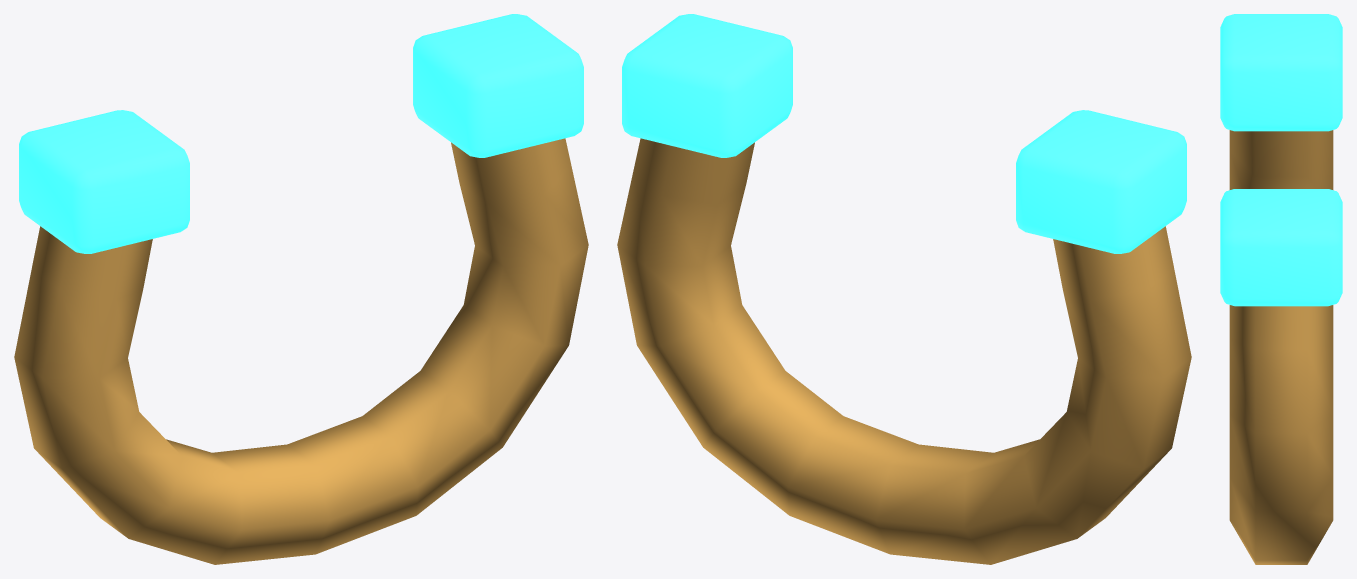
Rendered from loot-3-refined-v15.fbx.
3 renders of one model, left to right at view 1: azimuth 30°, elevation 25°; view 2: azimuth 150°, elevation 25°; view 3: azimuth 270°, elevation 25°, orthographic. The views are drawn at different scales.
Parts seen in each view (by area): view 1: MagnetArc, MagnetTip, MagnetTip.001; view 2: MagnetArc, MagnetTip, MagnetTip.001; view 3: MagnetArc, MagnetTip, MagnetTip.001.
Boxes of the visible parts, x1=… form: MagnetArc: x1=14, y1=138, x2=588, y2=564; MagnetTip: x1=19, y1=110, x2=189, y2=253; MagnetTip.001: x1=413, y1=14, x2=583, y2=157; MagnetArc: x1=617, y1=138, x2=1191, y2=564; MagnetTip: x1=1016, y1=110, x2=1186, y2=253; MagnetTip.001: x1=622, y1=14, x2=792, y2=157; MagnetArc: x1=1229, y1=130, x2=1333, y2=564; MagnetTip: x1=1220, y1=14, x2=1342, y2=131; MagnetTip.001: x1=1220, y1=189, x2=1342, y2=306.
Size of the model in its own units: 60.99 by 48.26 by 13.
